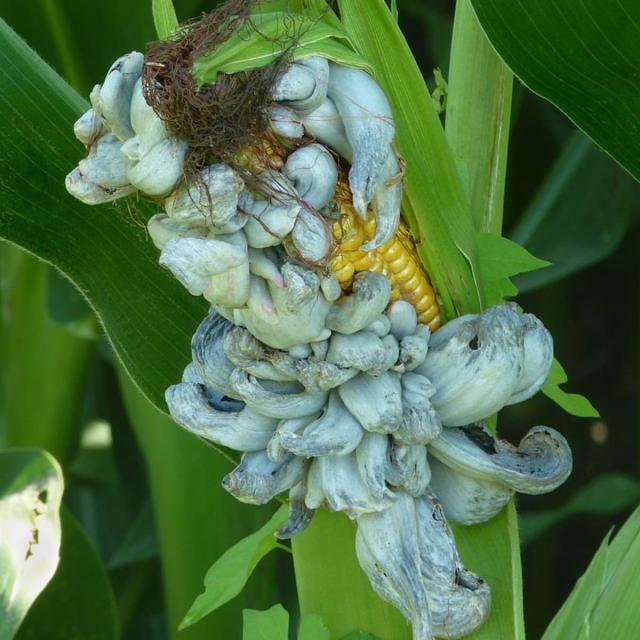Leaf_Scald: (46, 17, 588, 610)
